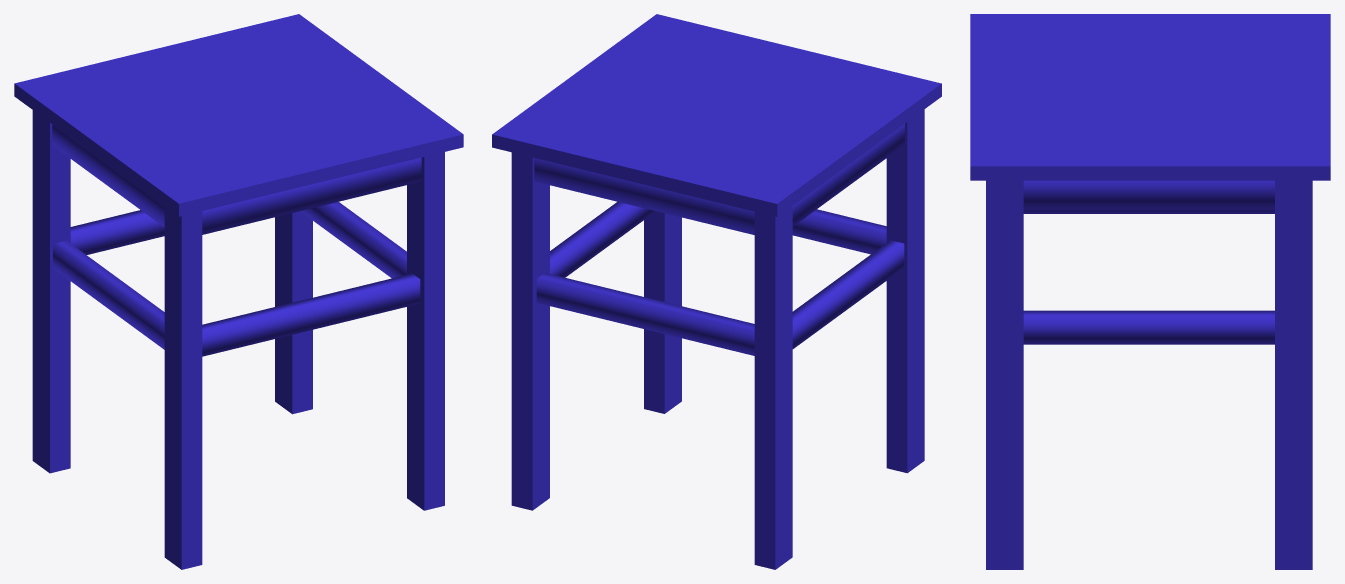
Rendered from Odwar.fbx.
3 renders of one model, left to right at view 1: azimuth 30°, elevation 25°; view 2: azimuth 150°, elevation 25°; view 3: azimuth 270°, elevation 25°, orthographic. The views are drawn at different scales.
Visible parts, largest first — view 1: LOW; view 2: LOW; view 3: LOW.
Part boxes in pixels (x1,y1,x2,y2): LOW: [14, 14, 463, 569]; LOW: [492, 14, 941, 569]; LOW: [970, 14, 1330, 569].
Bounding box in the file's own units: 96.37 × 121 × 96.37.
